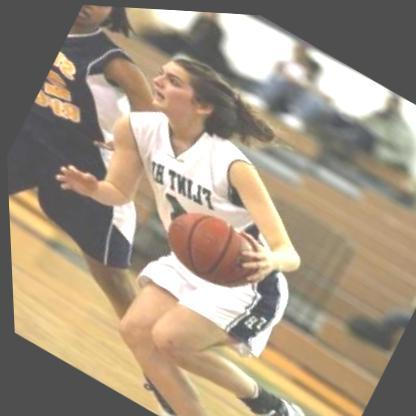basketball: (156, 196, 266, 299)
